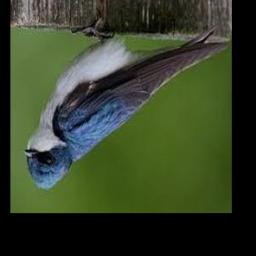Swallow: (23, 24, 228, 192)
